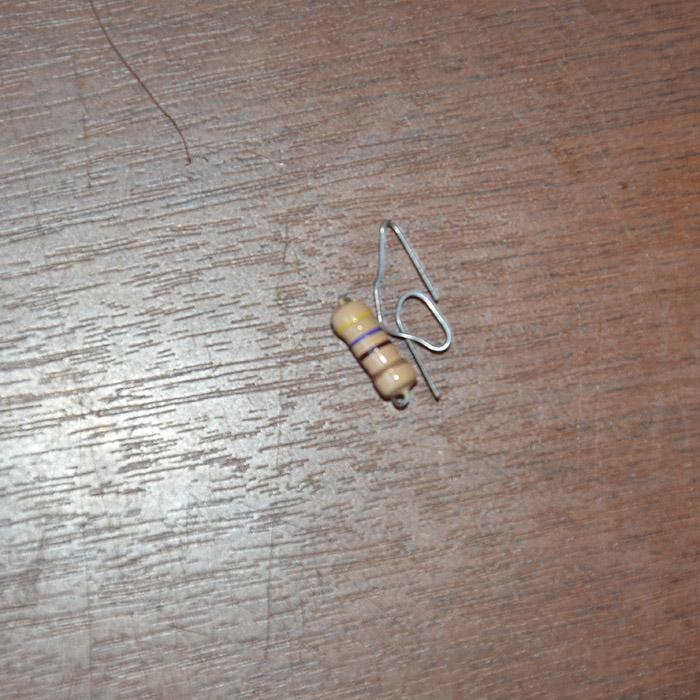resistor: (329, 295, 418, 404)
